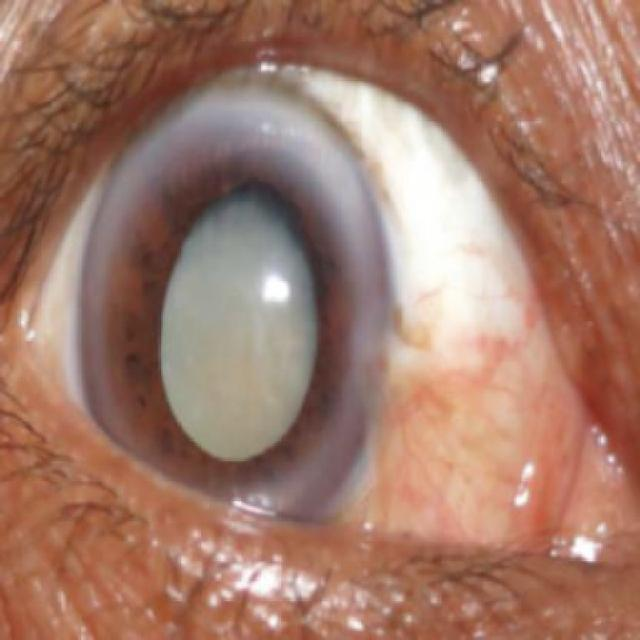Cataract: (77, 83, 397, 556)
